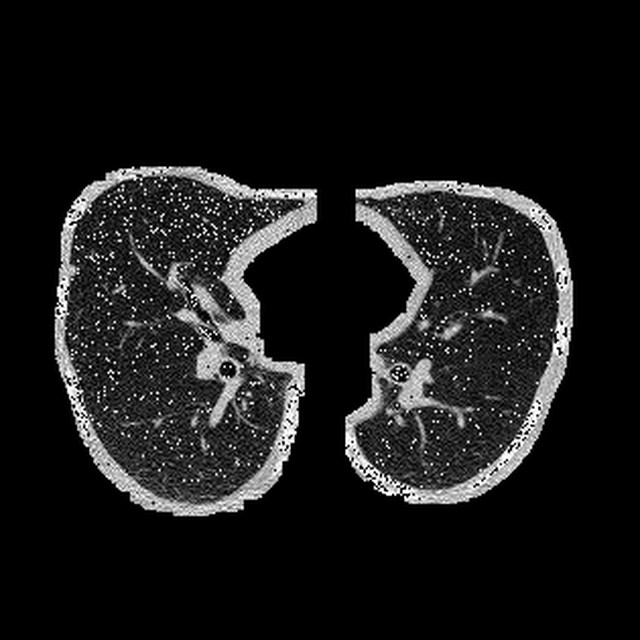PN: (67, 266, 75, 274)
